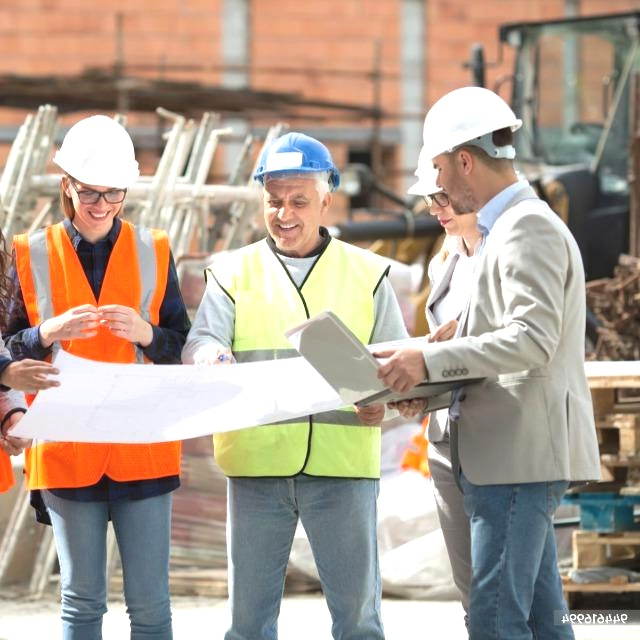Con_Casco: (414, 85, 519, 214), (249, 133, 338, 243), (52, 113, 138, 223)
Con_Chaleco: (12, 219, 176, 497), (210, 238, 390, 478)
Sin_Chaleco: (451, 209, 599, 487)
